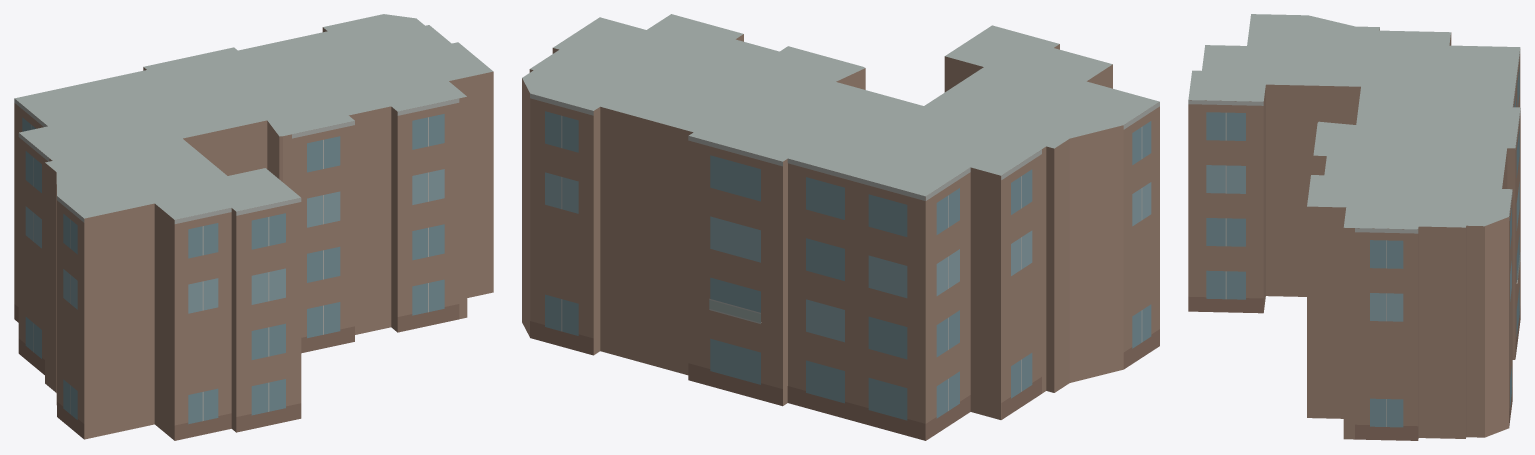
File: survey-upis-32941309.glb
3 views of the same model, side by side, from view 1: azimuth 30°, elevation 25°; view 2: azimuth 150°, elevation 25°; view 3: azimuth 270°, elevation 25° (orthographic). The views are drawn at different scales.
Parts seen in each view (by area): view 1: survey-upis-32941309.tmp; view 2: survey-upis-32941309.tmp; view 3: survey-upis-32941309.tmp.
Part boxes in pixels (left/top/right/bottom): survey-upis-32941309.tmp: left=14, top=14, right=493, bottom=440; survey-upis-32941309.tmp: left=522, top=14, right=1159, bottom=440; survey-upis-32941309.tmp: left=1188, top=14, right=1520, bottom=440.
Size of the model in its own units: 27.32 by 12.5 by 17.81.
